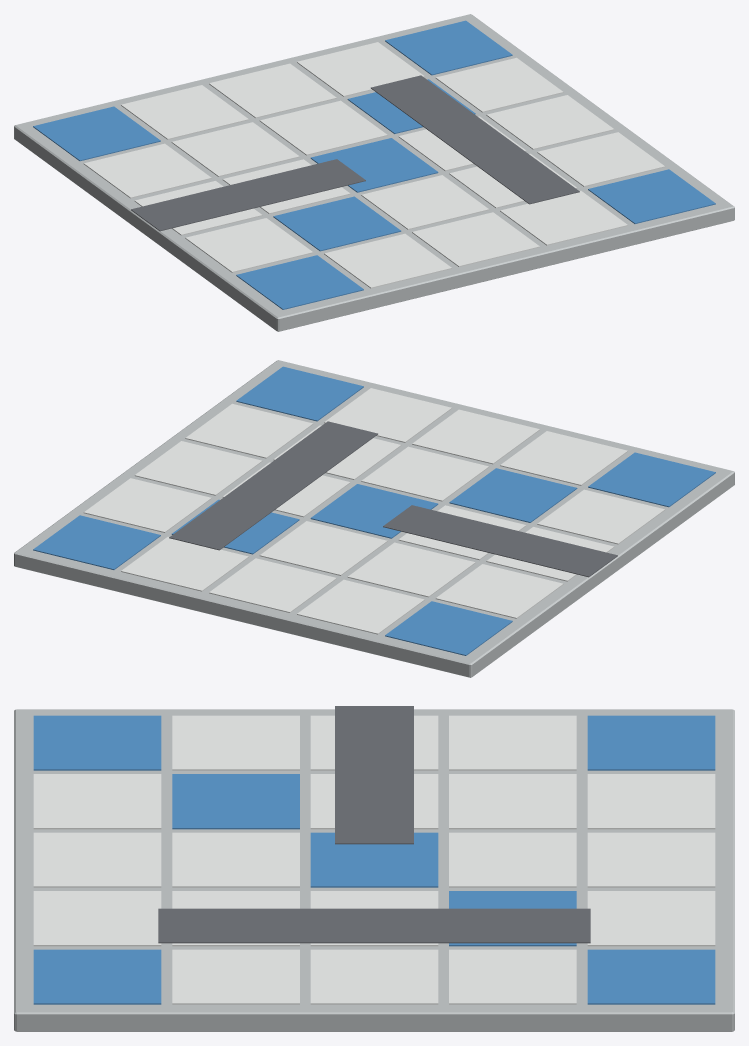
Rendered from public-swimming-baths-and-poolside-pool-tank-floor-til-a32450cc__35233.glb.
3 views of the same model, one above another, from view 1: azimuth 30°, elevation 25°; view 2: azimuth 150°, elevation 25°; view 3: azimuth 270°, elevation 25° (orthographic). The views are drawn at different scales.
Parts seen in each view (by area): view 1: pool-tank-floor-tile-lane-target; view 2: pool-tank-floor-tile-lane-target; view 3: pool-tank-floor-tile-lane-target.
Boxes of the visible parts, x1,y1,x2,y2 form: pool-tank-floor-tile-lane-target: [14, 14, 734, 331]; pool-tank-floor-tile-lane-target: [14, 360, 734, 677]; pool-tank-floor-tile-lane-target: [14, 706, 734, 1031].
Bounding box in the file's own units: 2 × 0.067 × 2.
